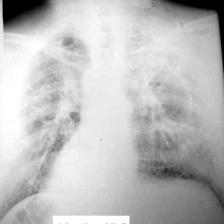tuberculosis: (5, 21, 224, 224)
